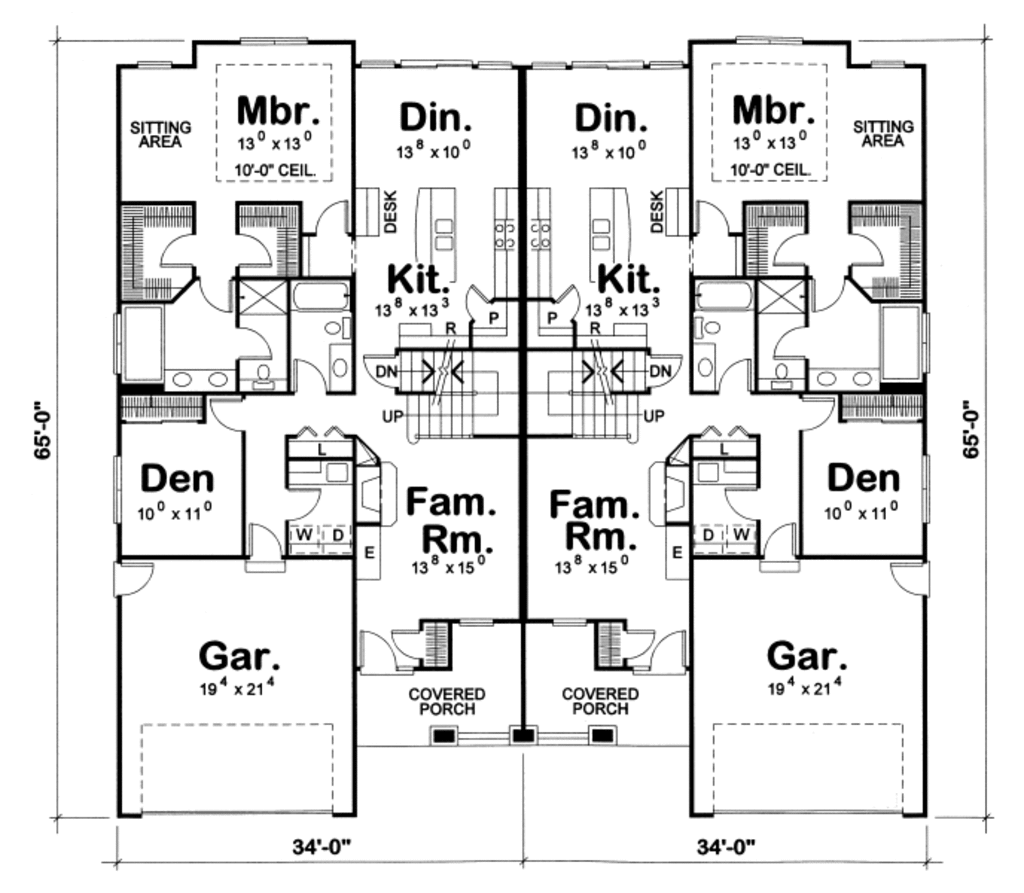door: (239, 516, 295, 584), (752, 517, 810, 579), (641, 623, 690, 673), (109, 557, 165, 598), (356, 625, 399, 678), (889, 555, 934, 598), (719, 482, 762, 527), (386, 616, 426, 664), (202, 394, 249, 434), (647, 346, 683, 394), (770, 321, 814, 360), (689, 197, 733, 236), (304, 199, 349, 237), (360, 349, 402, 389), (234, 321, 276, 361), (235, 227, 274, 270), (456, 274, 492, 320), (767, 223, 807, 264), (812, 273, 850, 316), (798, 395, 838, 435), (720, 354, 753, 402), (157, 228, 192, 273), (613, 620, 653, 658), (844, 233, 889, 266), (290, 353, 325, 395), (196, 275, 232, 315), (552, 278, 589, 316), (282, 488, 322, 521)
large_sink: (761, 359, 807, 392), (246, 360, 288, 393), (690, 314, 726, 347), (317, 309, 350, 342)
small_sink: (162, 361, 232, 393), (812, 369, 884, 393), (325, 339, 351, 391)
stairs: (523, 345, 644, 449), (401, 349, 528, 443)
tub: (696, 279, 760, 312), (282, 283, 347, 314)
twin_sink: (427, 216, 458, 260), (589, 211, 610, 253)
window: (863, 45, 919, 79), (526, 45, 571, 84), (730, 31, 819, 50), (471, 48, 520, 82), (234, 32, 312, 50), (650, 49, 683, 89), (348, 51, 398, 76), (112, 450, 127, 531), (111, 304, 126, 377), (130, 57, 179, 77)
